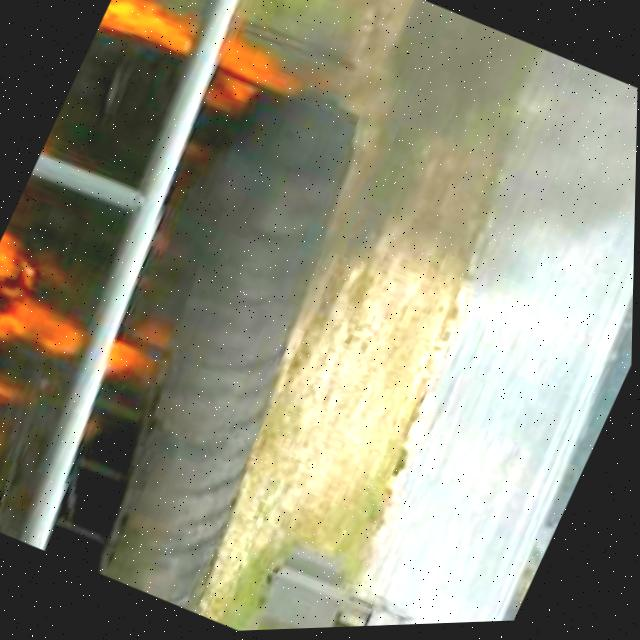Fire: (74, 0, 313, 161), (0, 223, 90, 519), (97, 309, 183, 414)
Smoke: (291, 0, 640, 380)
